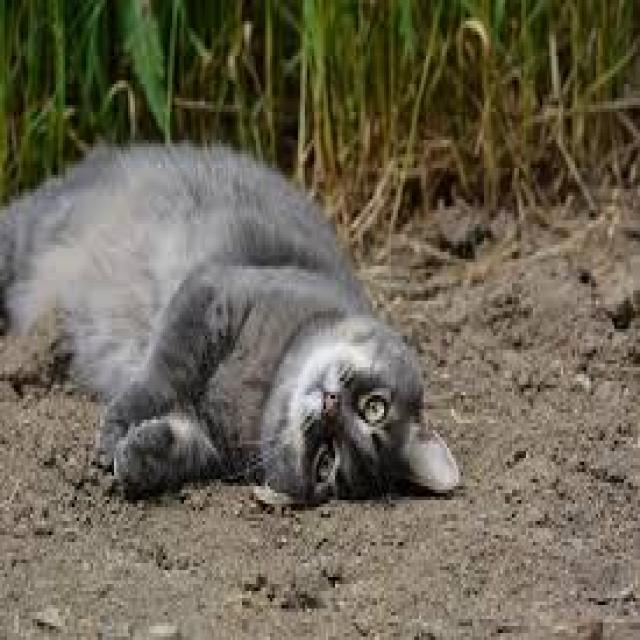cat: (0, 130, 467, 517)
